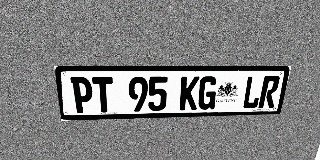5: (148, 76, 168, 111)
9: (128, 77, 148, 112)
G: (197, 76, 218, 110)
K: (179, 76, 200, 110)
L: (241, 76, 264, 109)
P: (70, 77, 94, 113)
R: (258, 76, 281, 108)
T: (92, 77, 114, 113)
